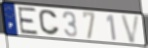1: (106, 14, 117, 42)
3: (62, 11, 79, 38)
7: (82, 10, 97, 41)
C: (38, 9, 61, 36)
E: (17, 6, 39, 36)
V: (120, 14, 142, 44)
